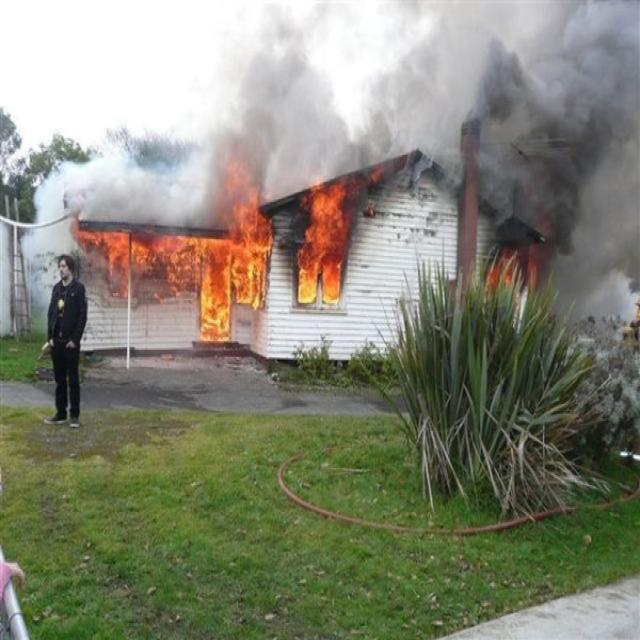Fire: (296, 184, 350, 308), (108, 232, 196, 296), (231, 182, 270, 308), (199, 236, 229, 344)
Smoke: (31, 0, 640, 184)
